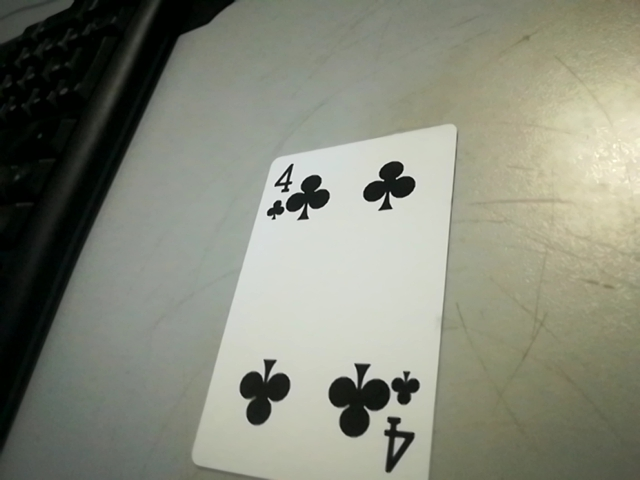mh 4: (378, 365, 432, 480), (258, 161, 303, 222)
